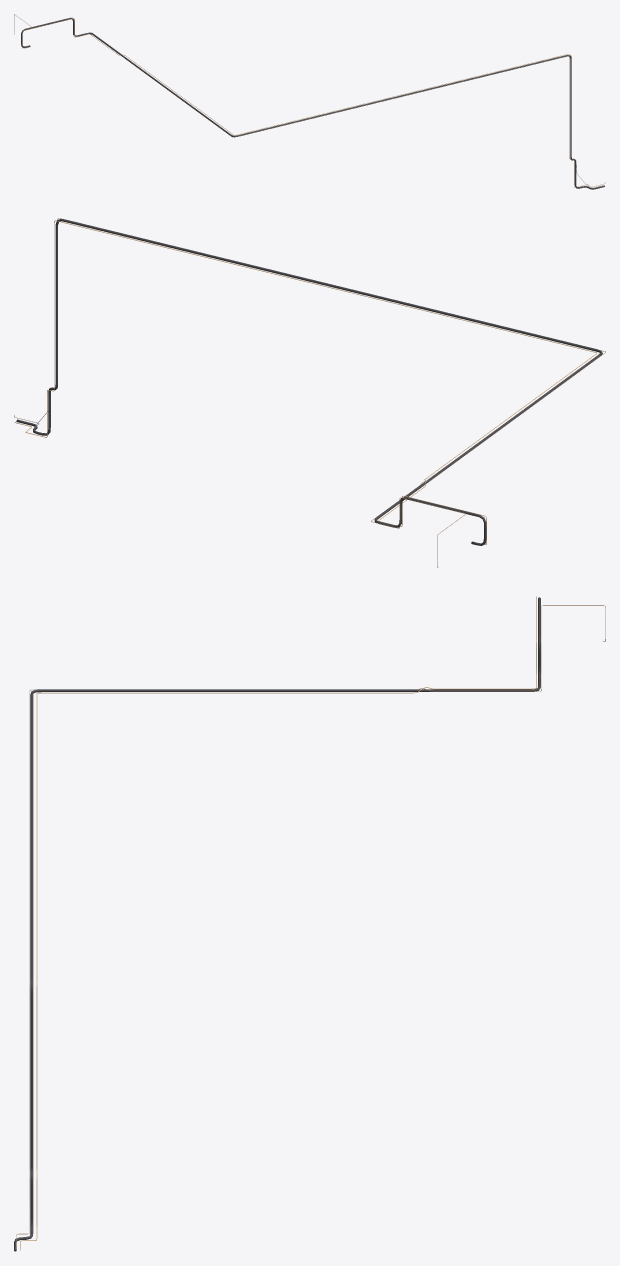
Rendered from pipes_hvac__hvac-electric_attic_ra15.glb.
3 renders of one model, top to bottom at view 1: azimuth 30°, elevation 25°; view 2: azimuth 150°, elevation 25°; view 3: azimuth 270°, elevation 25°, orthographic. The views are drawn at different scales.
Parts seen in each view (by area): view 1: pipe_hvac_lineset_suction_hp_ra15ay36, pipe_hvac_lineset_liquid_hp_ra15ay36, pipe_hvac_lineset_tstat_cable_hp_ra15ay36; view 2: pipe_hvac_lineset_suction_hp_ra15ay36, pipe_hvac_lineset_liquid_hp_ra15ay36, pipe_hvac_lineset_tstat_cable_hp_ra15ay36; view 3: pipe_hvac_lineset_suction_hp_ra15ay36, pipe_hvac_lineset_liquid_hp_ra15ay36, pipe_hvac_lineset_tstat_cable_hp_ra15ay36.
Boxes of the visible parts, x1,y1,x2,y2 form: pipe_hvac_lineset_suction_hp_ra15ay36: (21,17,604,189); pipe_hvac_lineset_liquid_hp_ra15ay36: (22,18,602,187); pipe_hvac_lineset_tstat_cable_hp_ra15ay36: (14,14,605,187); pipe_hvac_lineset_suction_hp_ra15ay36: (16,218,602,545); pipe_hvac_lineset_liquid_hp_ra15ay36: (14,220,597,544); pipe_hvac_lineset_tstat_cable_hp_ra15ay36: (14,218,605,567); pipe_hvac_lineset_suction_hp_ra15ay36: (14,597,540,1251); pipe_hvac_lineset_liquid_hp_ra15ay36: (20,596,536,1250); pipe_hvac_lineset_tstat_cable_hp_ra15ay36: (16,605,605,1247).
Bounding box in the file's own units: 13.3 × 4.52 × 8.73.
